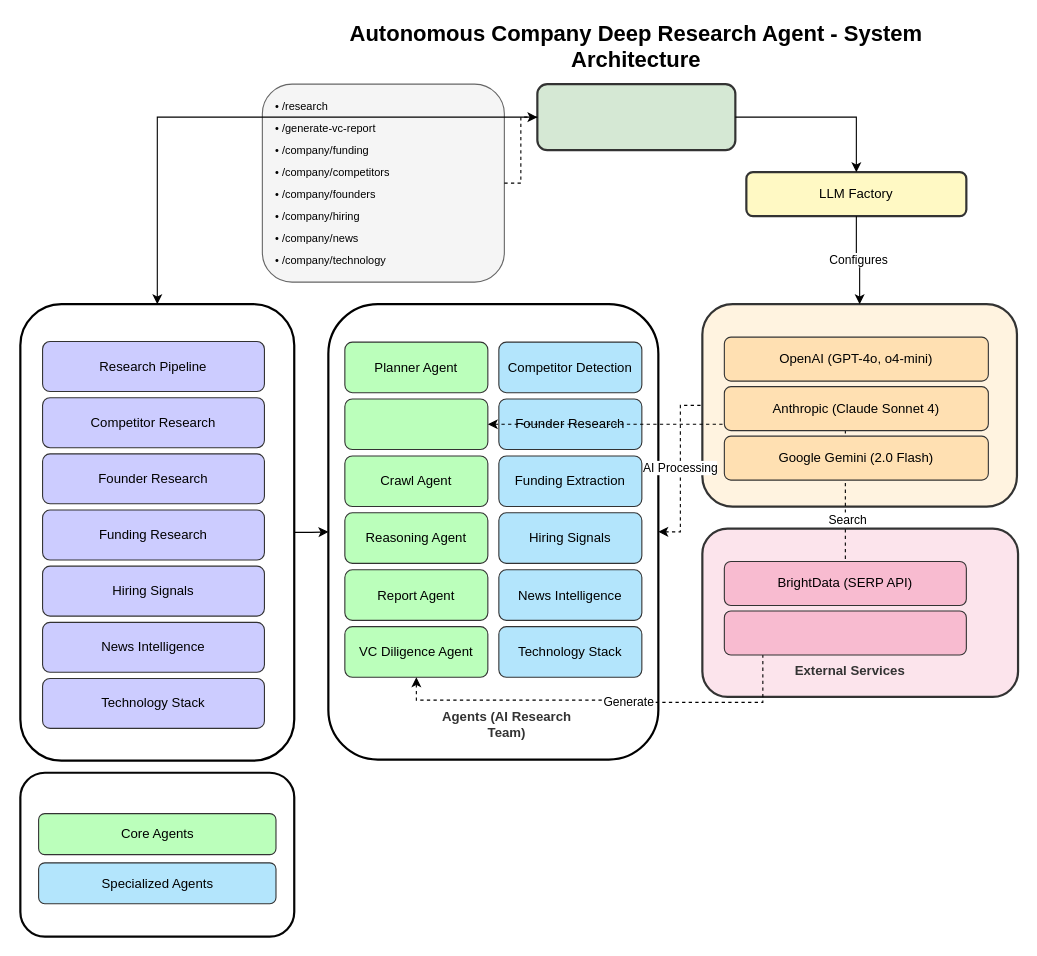
The diagram is 1037 pixels wide and 956 high, and some of its shapes have lost their labels. The centre of each missing label's shape, as x and y in pixels:
FastAPI API Server: the point at 636,116
Report Generator (PDF/MD): the point at 844,632
Search Agent: the point at 416,424
